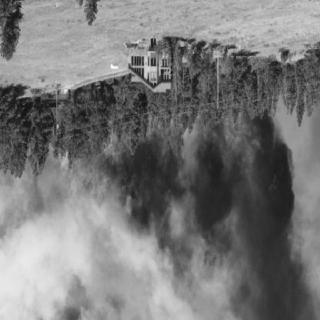Fire: (115, 104, 272, 184)
